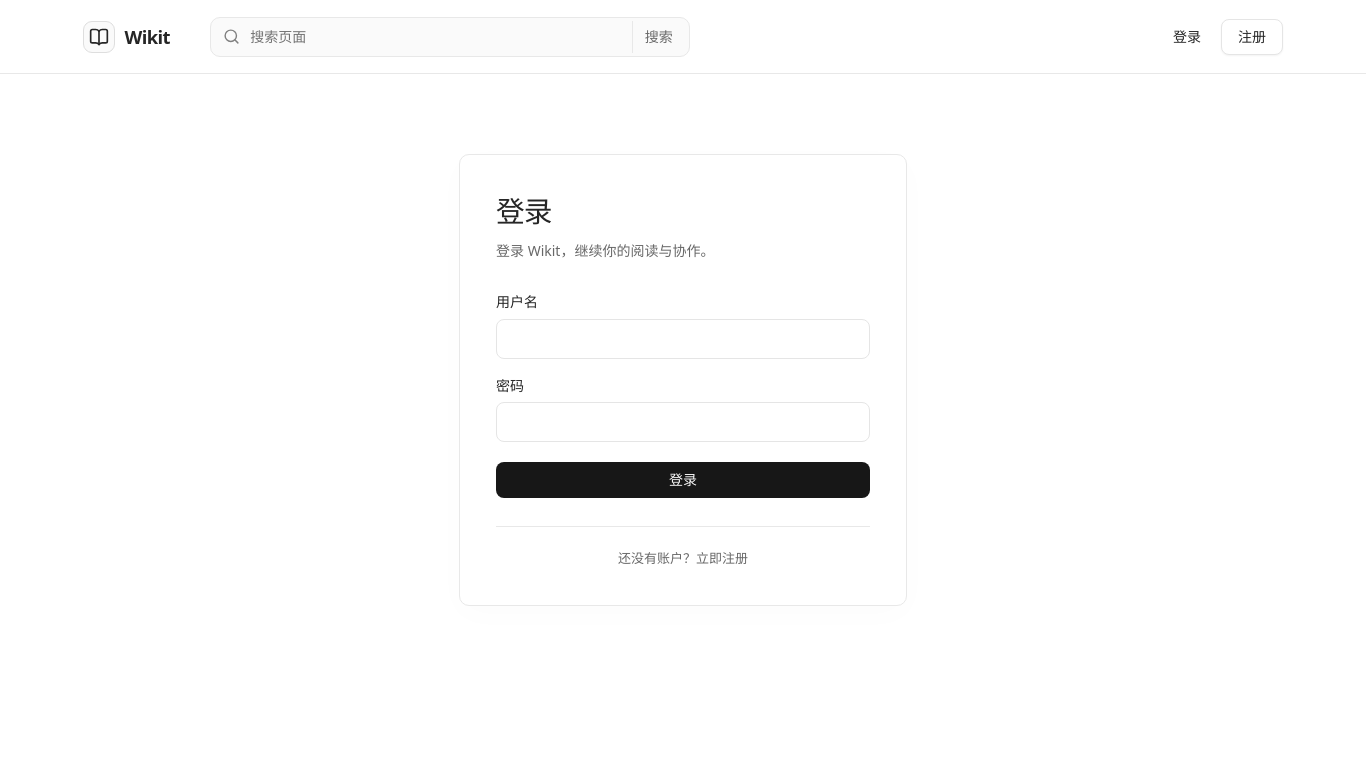
Scenario: logs in with Cookie/CSRF and does not persist a password or Bearer token
The width and height of the screenshot is (1366, 768).
Expected: the heading "登录" is shown, [496,191,551,230]
Step 1. Type "alice" into the field labelled "用户名" → point(683, 338), box [496,318,870,358]
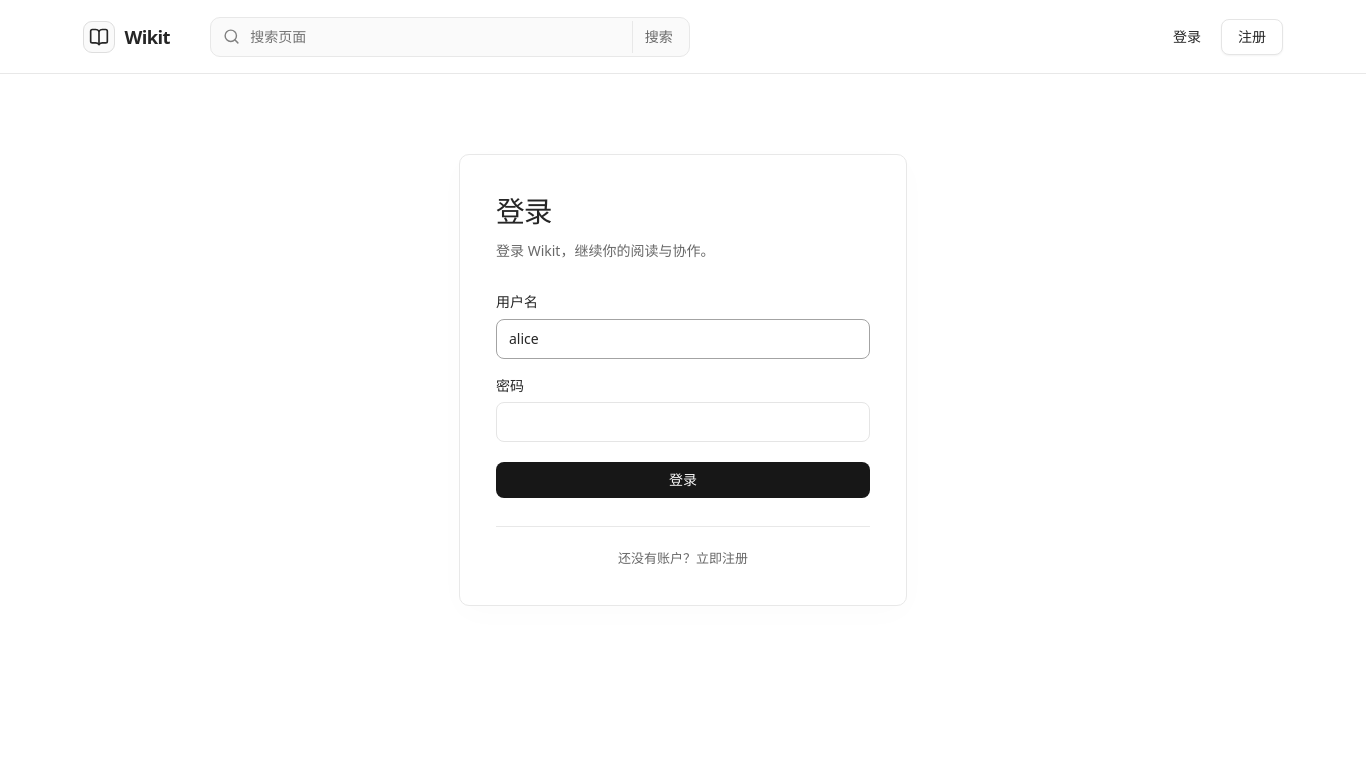
Step 2. Type "never-persist-password" into the password field labelled "密码" → point(683, 422), box [496,402,870,442]
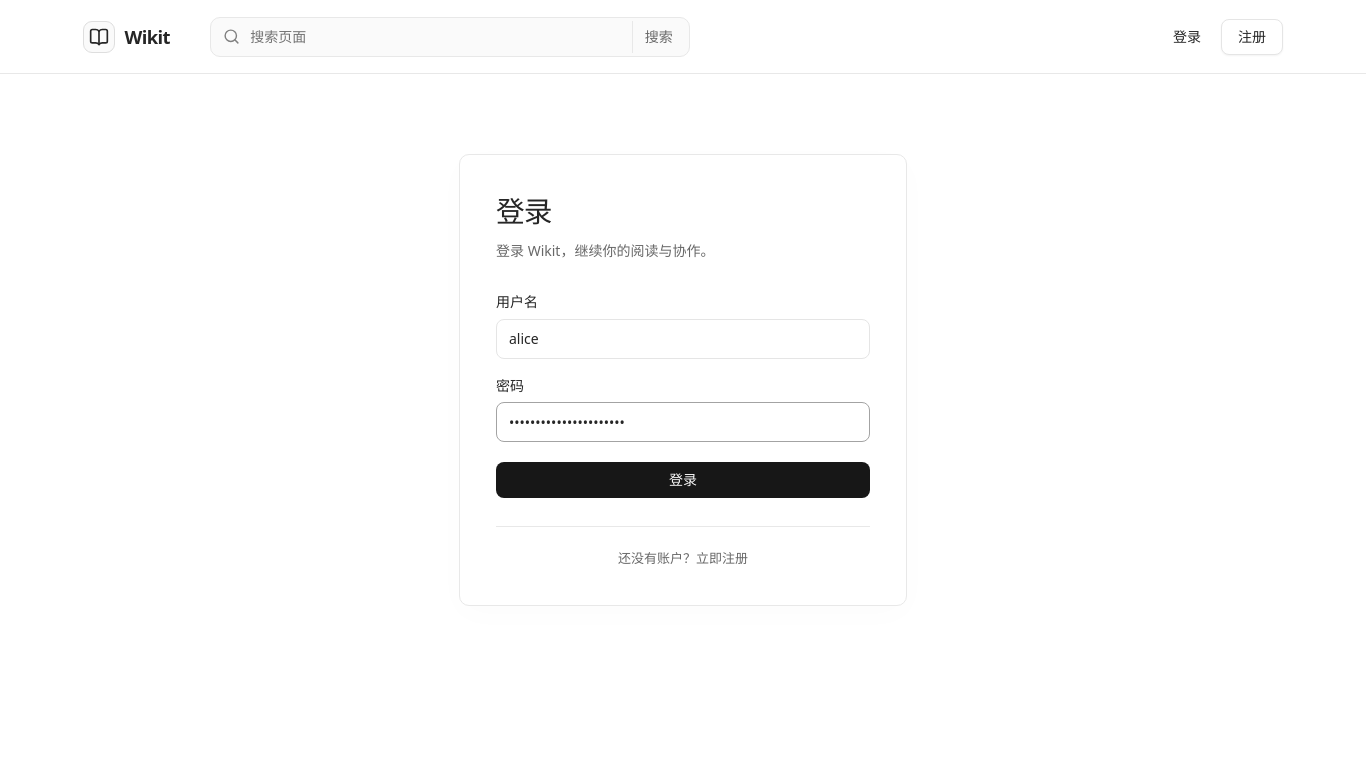
Step 3. Click the button "登录" → point(683, 480), box [496,462,870,498]
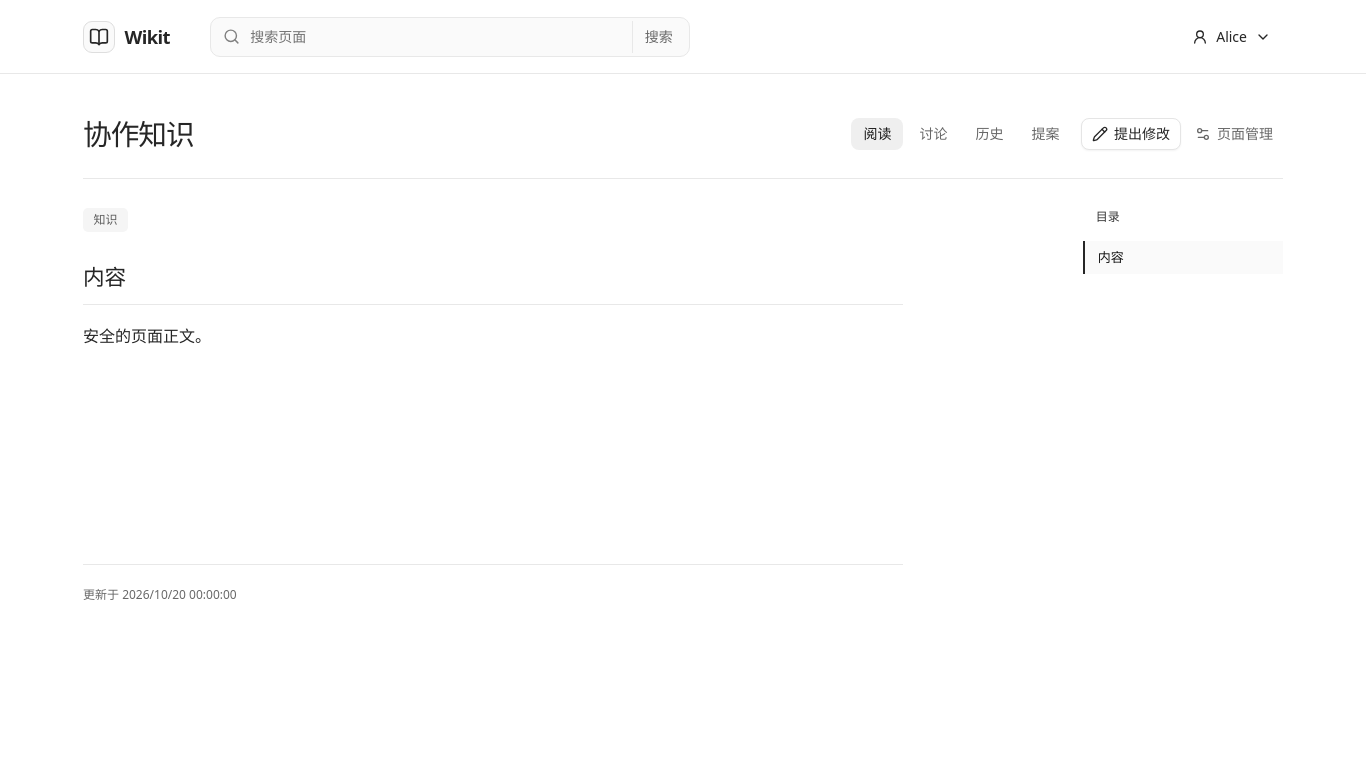
Expected: the heading "协作知识" is shown, [83,114,194,153]
